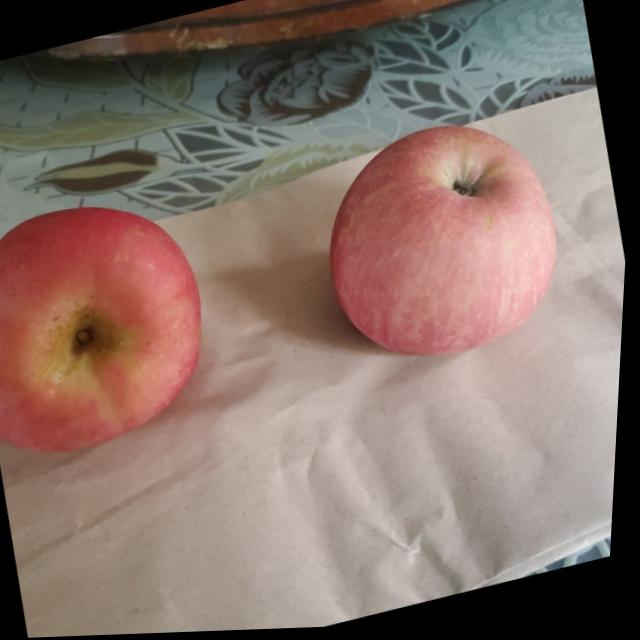apple: (303, 105, 580, 382), (0, 180, 230, 468)
